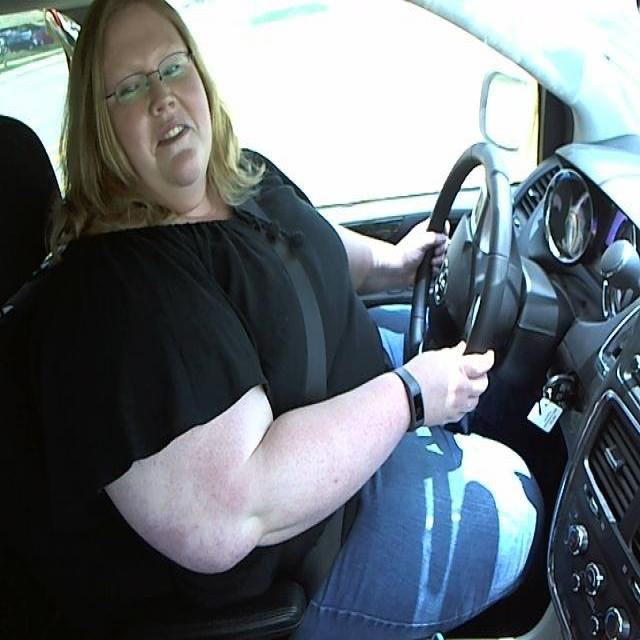seatbelt: (253, 196, 339, 389)
